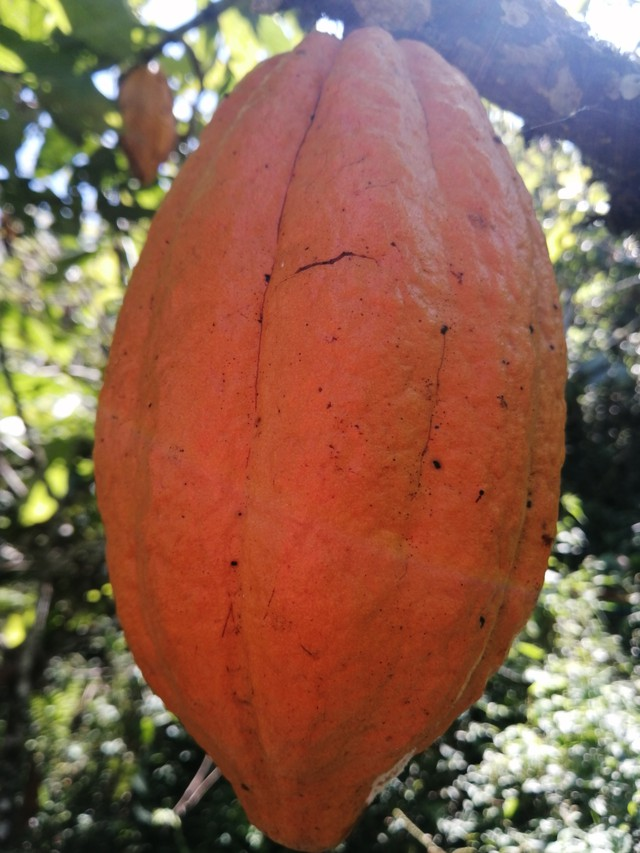Health: (66, 20, 591, 853)
